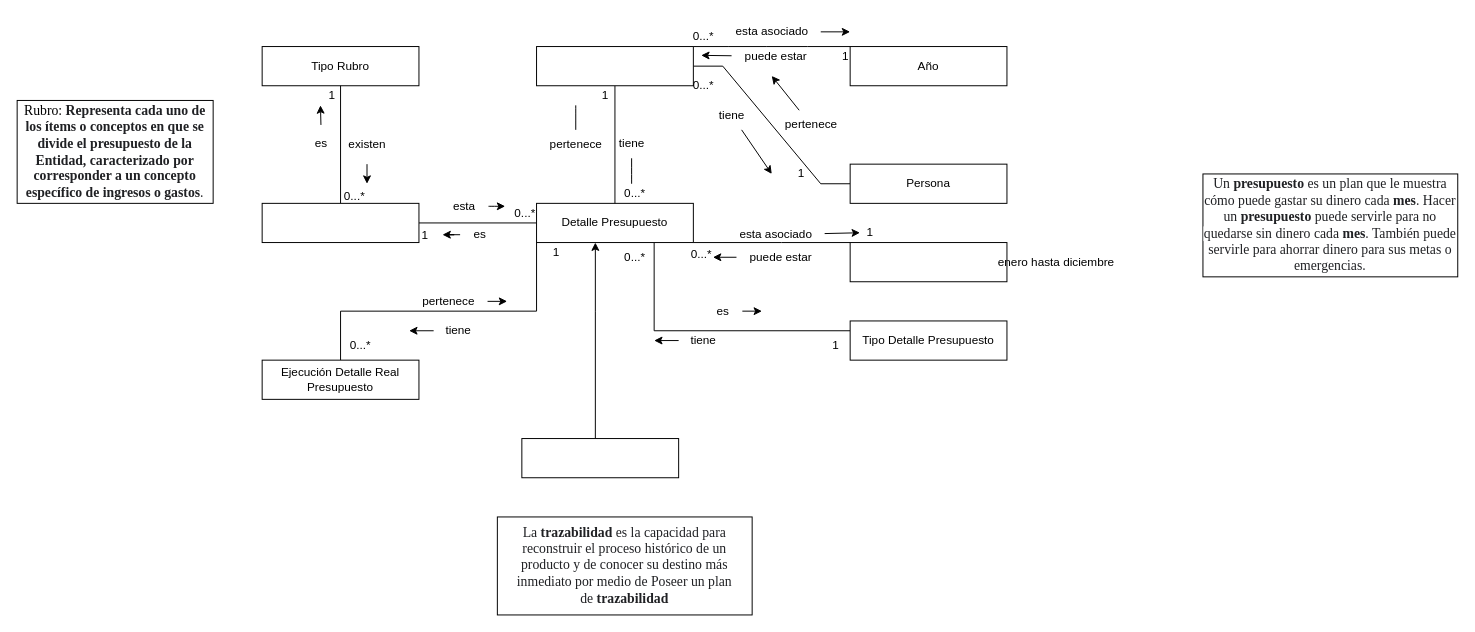
Image size: 1475x632. Some labels were removed from this diagram. The shapes that lost their labels are listed below. From the top down, each one's centre as x and y in pixels, then its label:
At point 614,66: "Presupuesto".
At point 340,222: "Rubro".
At point 928,262: "Mes".
At point 600,458: "Trazabilidad".
